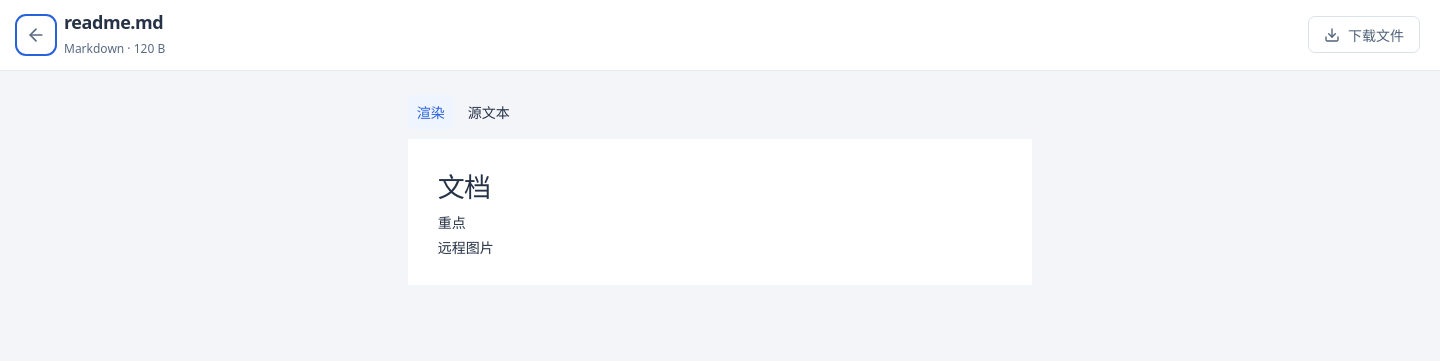
Scenario: renders Markdown as inert content and offers the exact source text
Expected: the heading "文档" is shown, [438,168,490,205]
Click the button "源文本" at (489, 112), box [459,95,519,129]
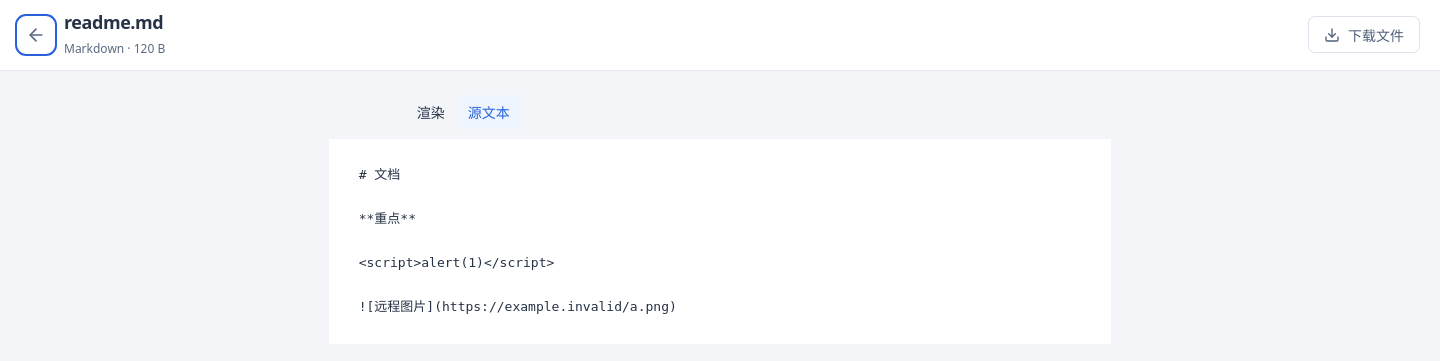
Expected: the text "<script>alert" is shown, [359,167,677,314]
